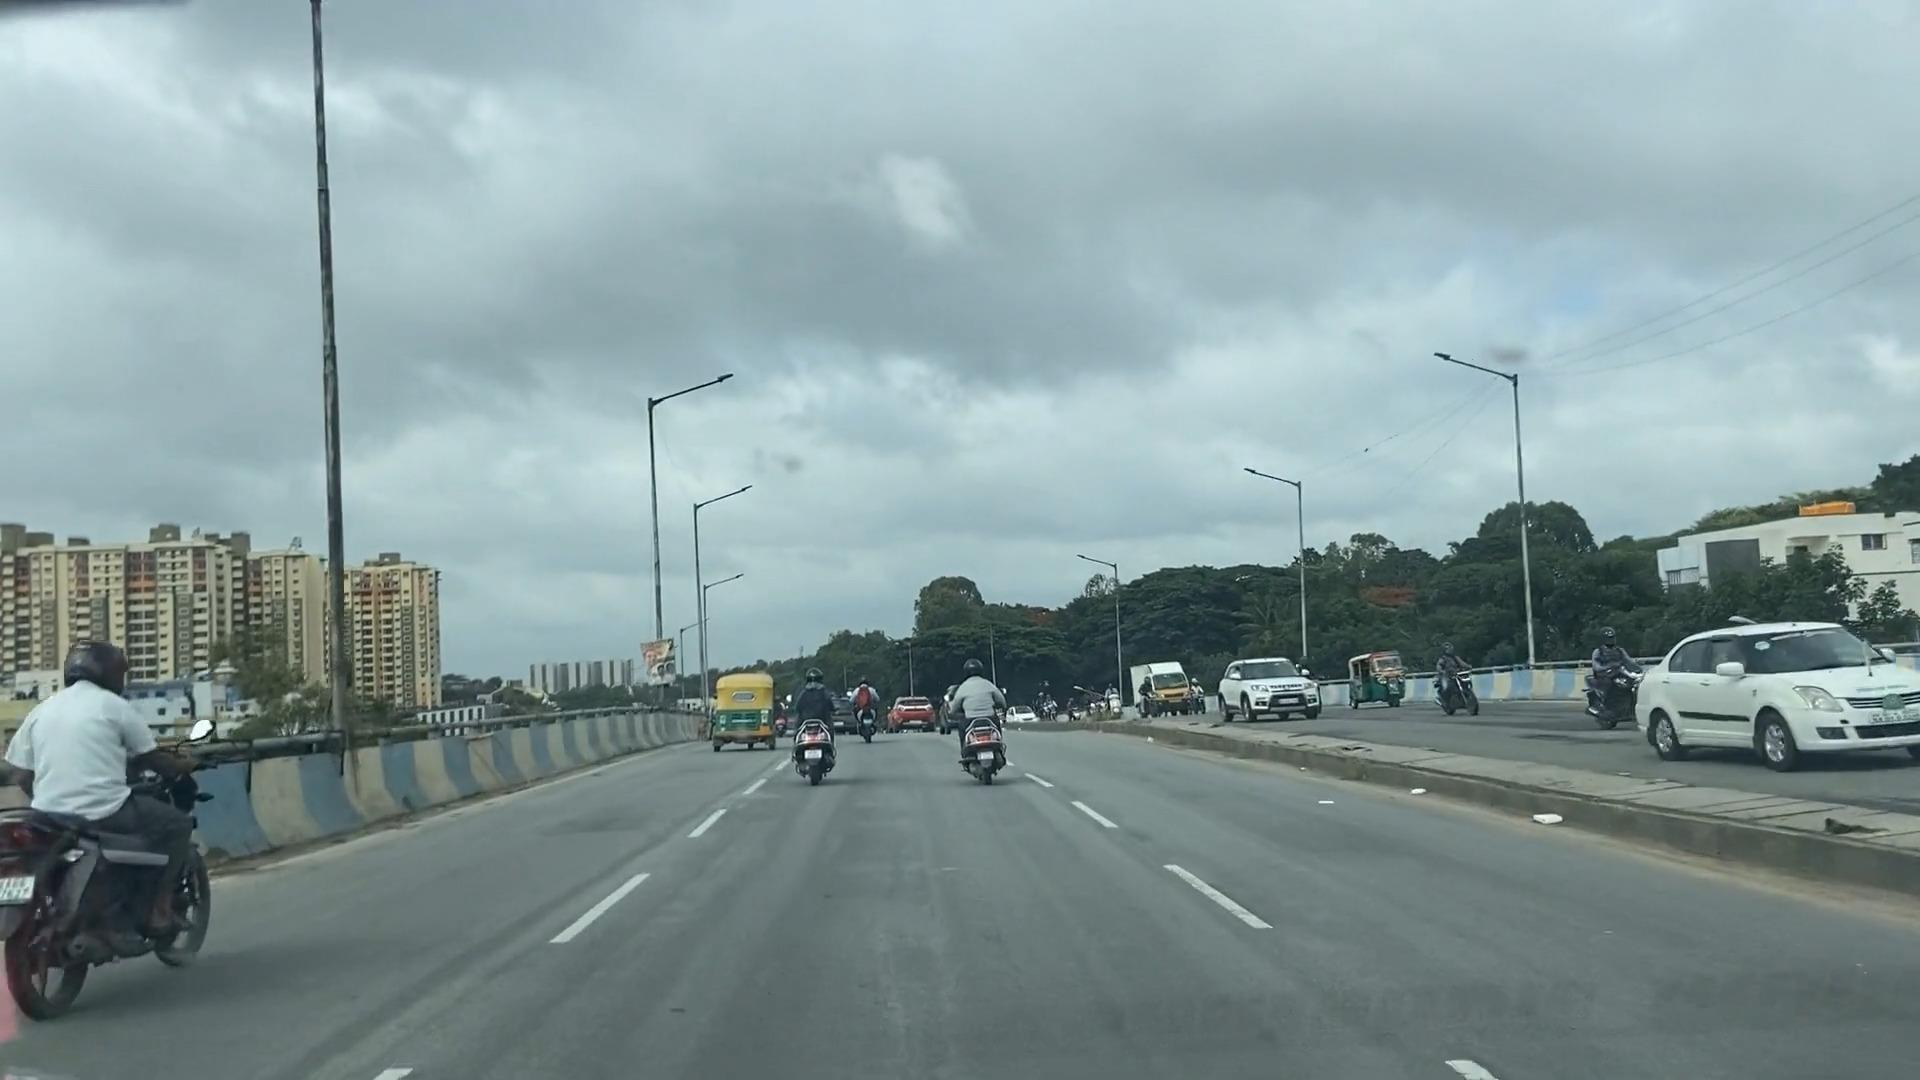LMV: (0, 654, 220, 990), (948, 658, 1014, 787), (799, 661, 840, 789), (709, 665, 771, 748), (853, 666, 891, 740)
